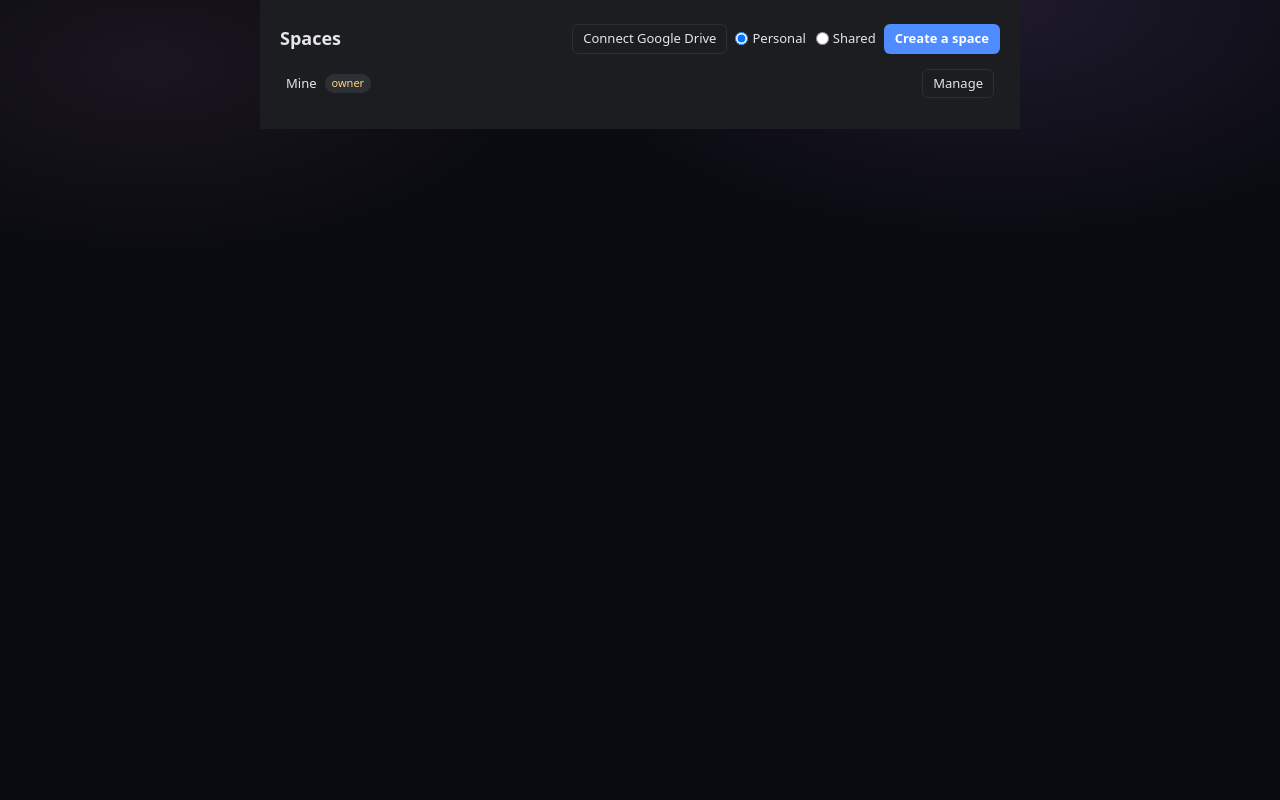
R3-259 — a space's kind › after converting, the refreshed list shows the shared badge
Click the button "Manage": (958, 83) [922,68,994,98]
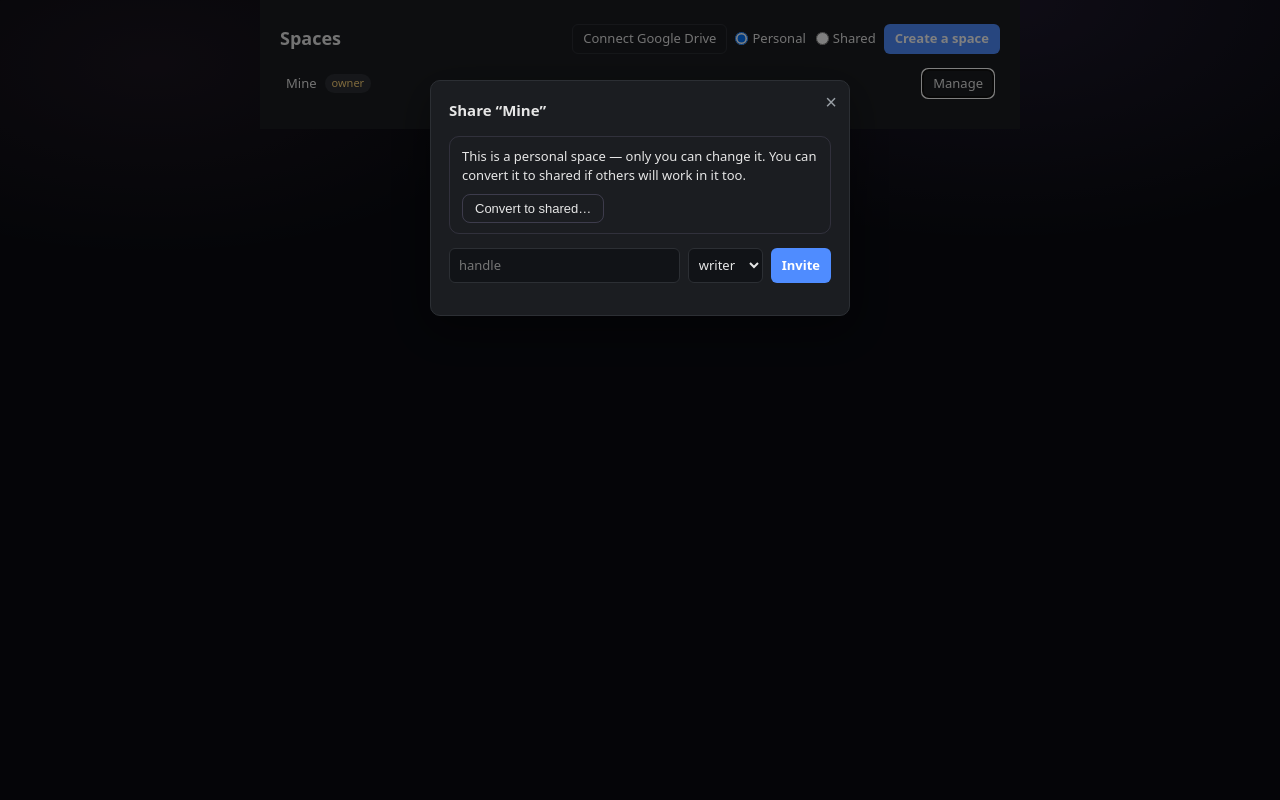
Click the button "Convert to shared…": (533, 208) [462,194,604,222]
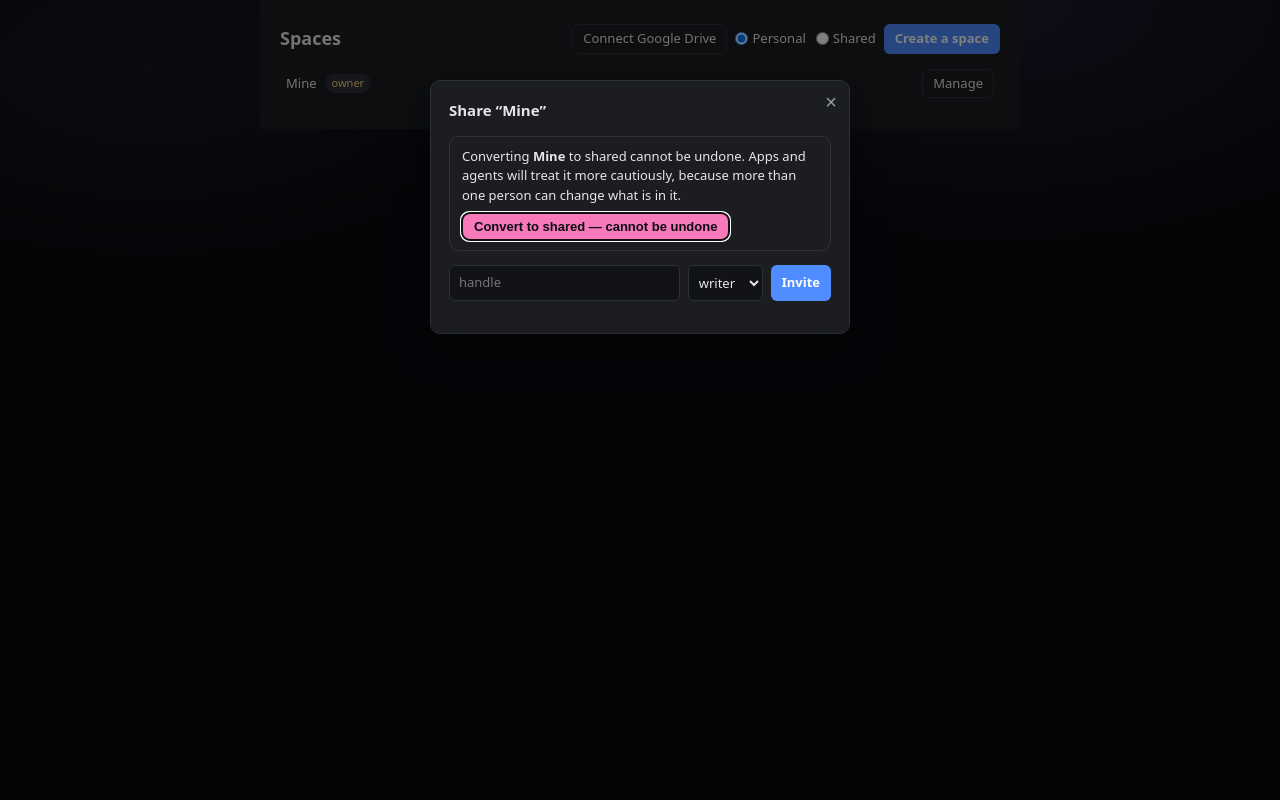
Click the button "Convert to shared — cannot be undone": (596, 226) [462,213,729,240]
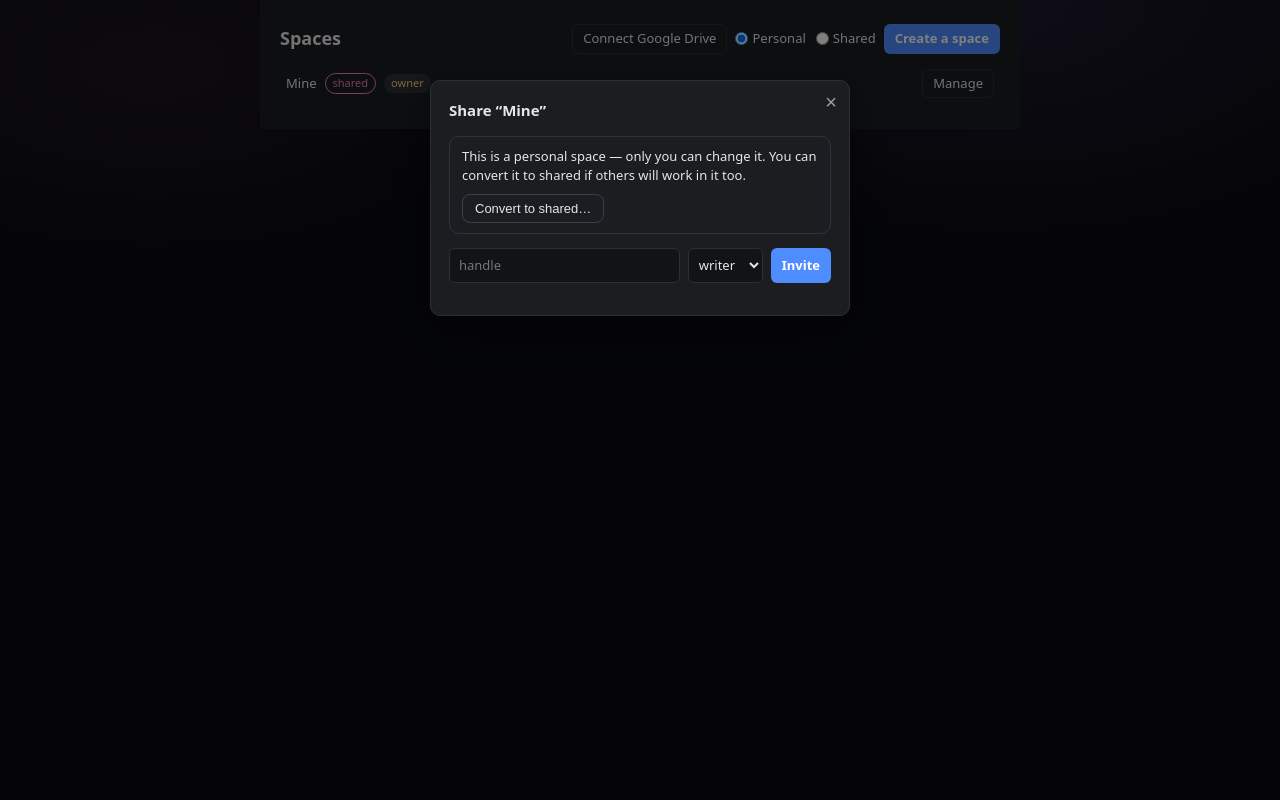
Expected: the text "shared" is shown, [324,73,376,94]
